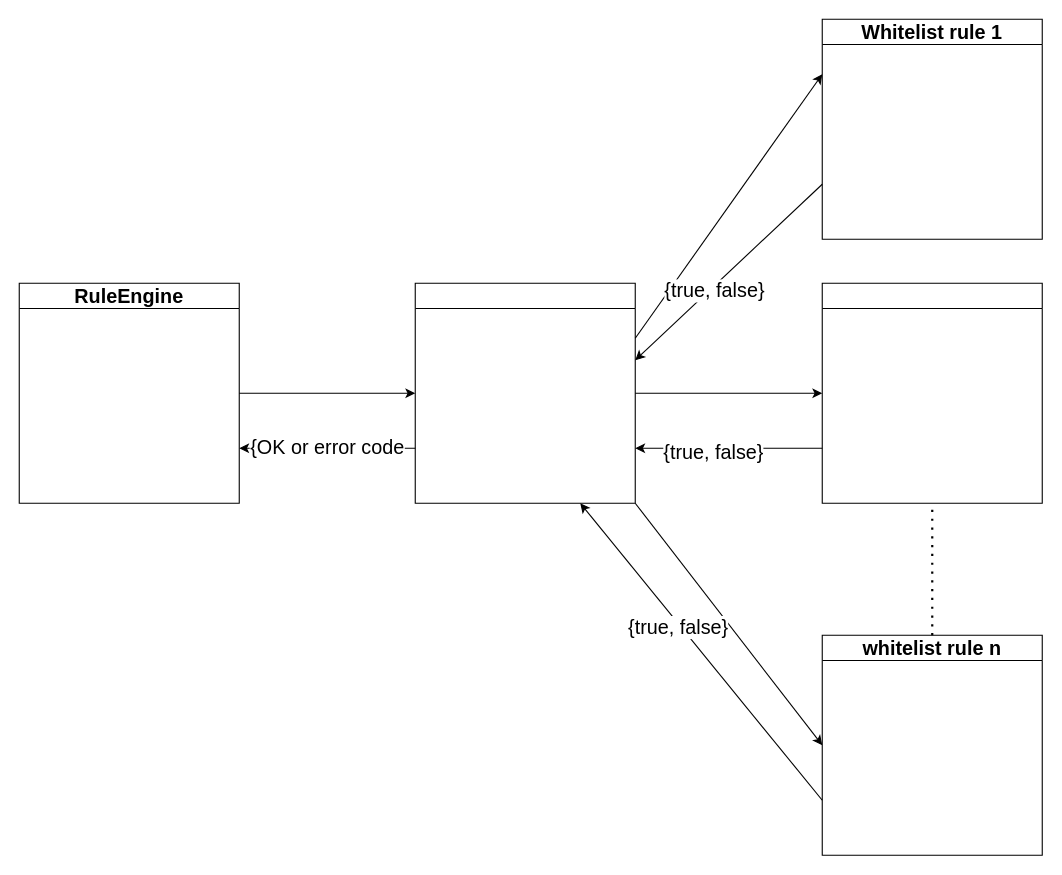
This 1062x875 diagram has some shape labels left out. The centre of each missing label's shape, as x and y in pixels:
"whitelist rule 2" goes at [931,392].
"WhitelistWrappers" goes at [524,392].
